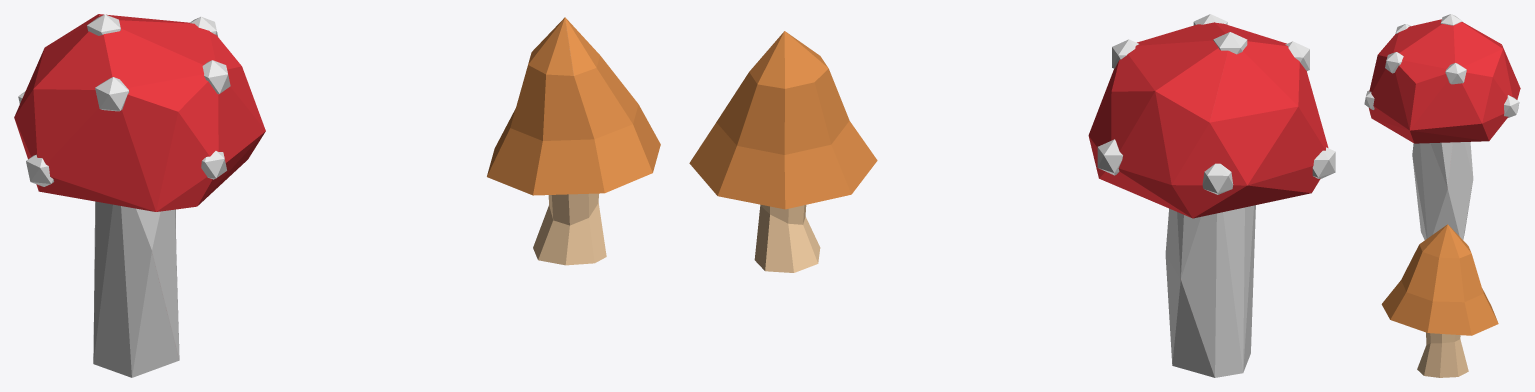
Rendered from Planta_Hongos_010.fbx.
3 renders of one model, left to right at view 1: azimuth 30°, elevation 25°; view 2: azimuth 150°, elevation 25°; view 3: azimuth 270°, elevation 25°, orthographic. The views are drawn at different scales.
Visible parts, largest first — view 1: Mushroom2; view 2: Mushroom2; view 3: Mushroom2.
Boxes of the visible parts, bbox=[...] form: Mushroom2: bbox=[14, 14, 660, 377]; Mushroom2: bbox=[689, 14, 1335, 377]; Mushroom2: bbox=[1364, 14, 1520, 377].
Bounding box in the file's own units: 22.26 × 11.74 × 7.66.
Materials: 4 (4 with a texture image).
